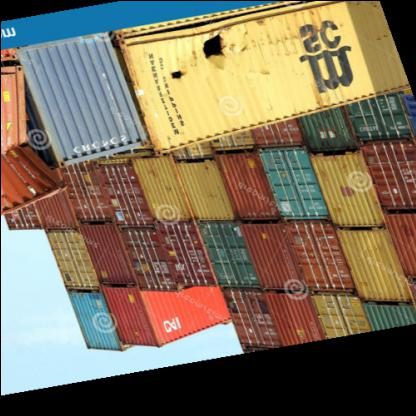Damage: (7, 99, 58, 183), (180, 27, 234, 83), (167, 62, 188, 88)
